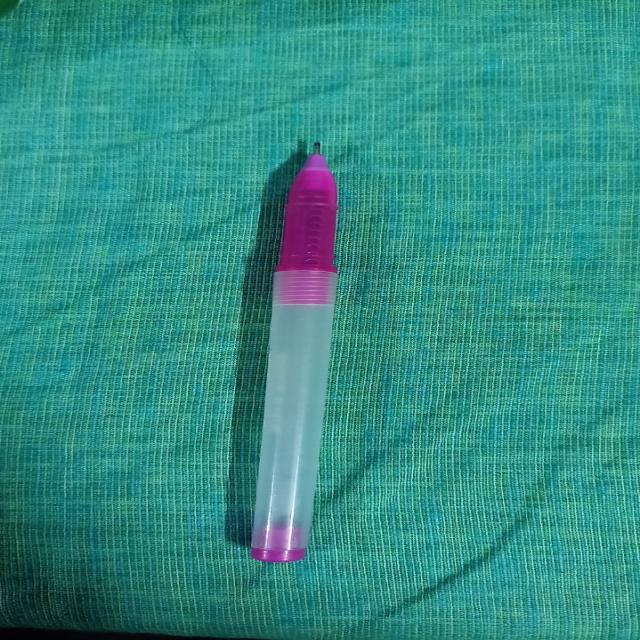pen: (226, 130, 377, 570)
